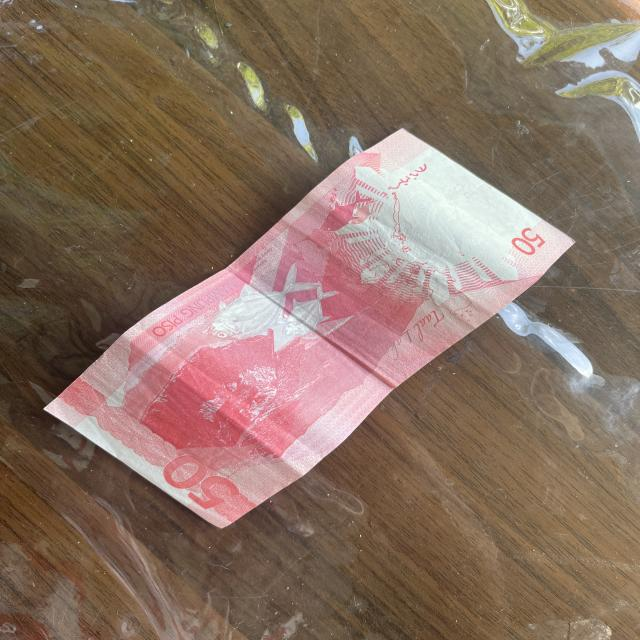50_maliputo: (198, 263, 339, 355)
50_maliputo_watermark: (315, 188, 382, 239)
value_watermark: (444, 179, 480, 205)
